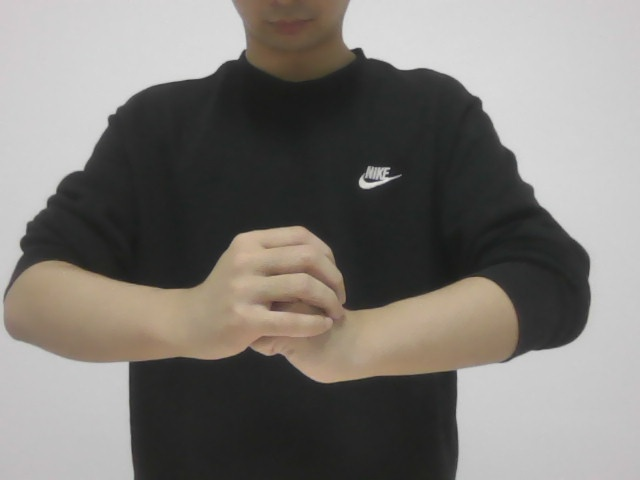wish: (173, 221, 366, 386)
